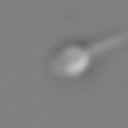normal: (83, 25, 128, 53)
